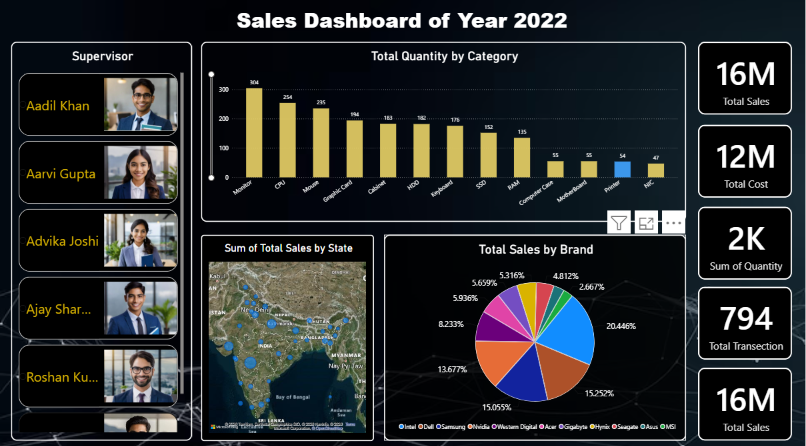

This screenshot's page, from the dashboard's own definition file:
{"tool":"powerbi","page":{"name":"Page 1","canvas":[1920,1080],"ordinal":0},"visuals":[{"type":"textbox","box":[45.3,23.9,1827.6,85.9],"z":0},{"type":"cardVisual","fields":{"Data":["Sum(Sales_Data.Total_Cost)"]},"box":[1665.4,307.8,224.3,174.2],"z":1000},{"type":"cardVisual","fields":{"Data":["Sum(Sales_Data.Quantity)"]},"box":[1665.4,503.4,224.3,174.2],"z":2000},{"type":"cardVisual","fields":{"Data":["CountNonNull(Sales_Data.Order_Number)"]},"box":[1665.4,694.3,224.3,174.2],"z":3000},{"type":"cardVisual","fields":{"Data":["Sum(Sales_Data.Total_Sales)"]},"box":[1665.4,887.6,224.3,174.2],"z":4000},{"type":"cardVisual","fields":{"Data":["Sum(Sales_Data.Total_Sales)"]},"box":[1665.4,109.8,224.3,174.2],"z":5000},{"type":"clusteredColumnChart","fields":{"Category":["Sales_Data.Category"],"Y":["Sum(Sales_Data.Quantity)"]},"box":[480,110,1157.5,430],"z":6000},{"type":"pieChart","title":"Total Sales by Brand","fields":{"Category":["Sales_Data.Brand"],"Y":["Sum(Sales_Data.Total_Sales)"]},"box":[916.2,570.2,720.5,491.5],"z":7000},{"type":"map","title":"Sum of Total Sales by State","fields":{"Category":["State_list.State"],"Size":["Sum(Sales_Data.Total_Sales)"]},"box":[480,570,412.5,492.5],"z":7001},{"type":"listSlicer","fields":{"Values":["Supervisor.Supervisor"]},"box":[26.2,109.8,431.9,952],"z":7002}]}

Visuals, with their boxes in screenshot pixels (x1, y1, x2, y2), scaled from the page's 1920x1080 canvas onto the 806x446 screenshot:
textbox: (left=19, top=10, right=786, bottom=45)
cardVisual - Sum(Sales_Data.Total_Cost): (left=699, top=127, right=793, bottom=199)
cardVisual - Sum(Sales_Data.Quantity): (left=699, top=208, right=793, bottom=280)
cardVisual - CountNonNull(Sales_Data.Order_Number): (left=699, top=287, right=793, bottom=359)
cardVisual - Sum(Sales_Data.Total_Sales): (left=699, top=367, right=793, bottom=438)
cardVisual - Sum(Sales_Data.Total_Sales): (left=699, top=45, right=793, bottom=117)
clusteredColumnChart - Sales_Data.Category x Sum(Sales_Data.Quantity): (left=202, top=45, right=687, bottom=223)
"Total Sales by Brand" pieChart: (left=385, top=235, right=687, bottom=438)
"Sum of Total Sales by State" map: (left=202, top=235, right=375, bottom=439)
listSlicer - Supervisor.Supervisor: (left=11, top=45, right=192, bottom=438)
